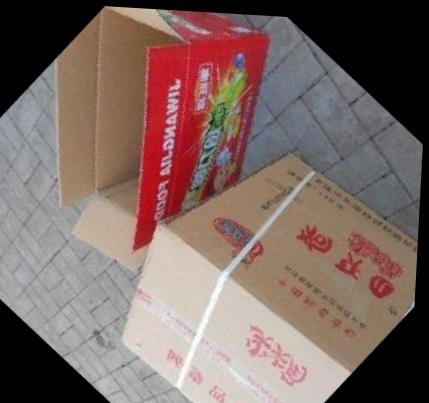cardboard: (80, 80, 425, 403), (0, 0, 327, 304)
